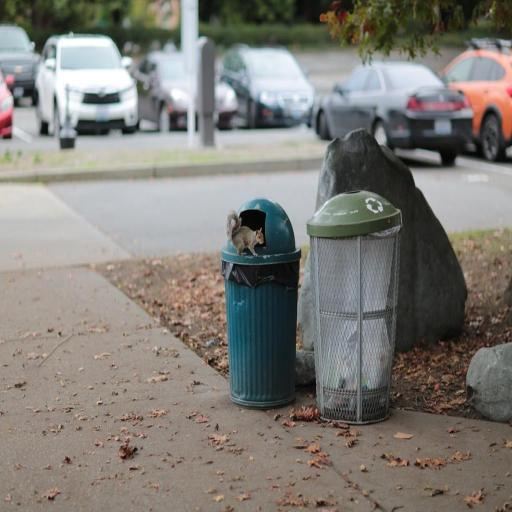trash-can: (306, 188, 406, 428)
